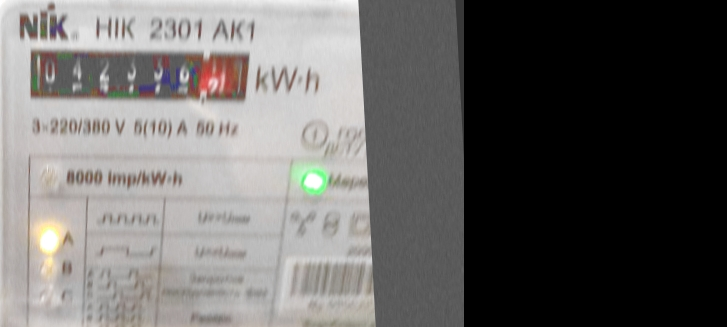0: (43, 56, 57, 85)
2: (95, 55, 114, 83)
3: (122, 53, 139, 83), (151, 53, 166, 82)
4: (69, 55, 86, 83)
6: (176, 58, 193, 85)
screen: (17, 28, 261, 122)
